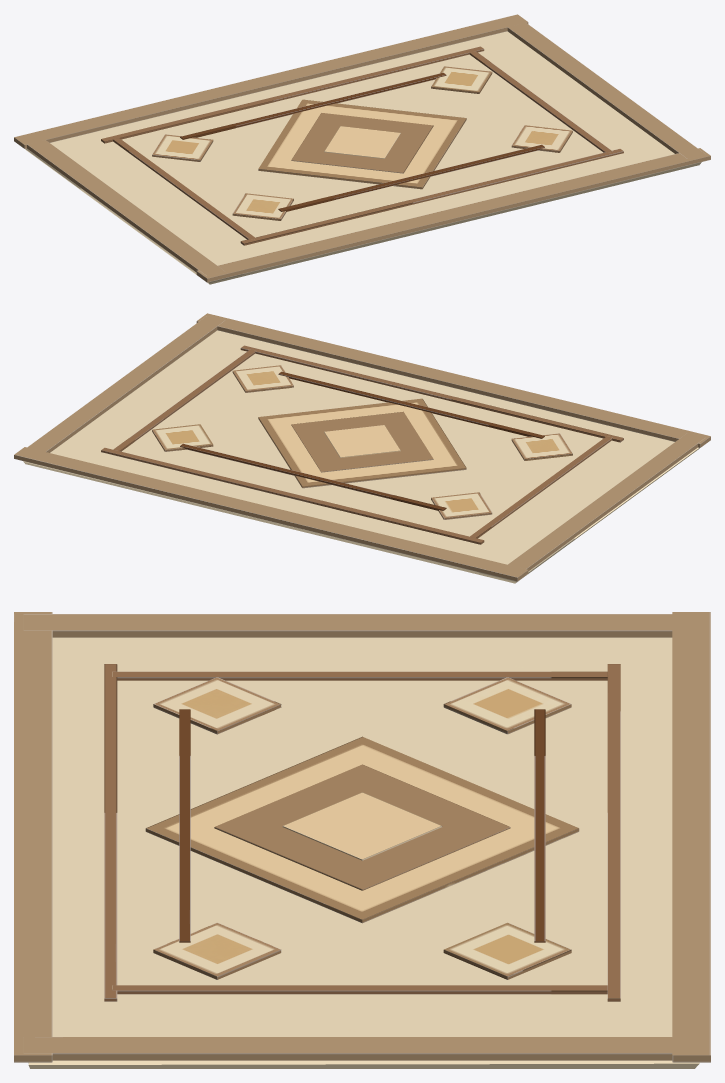
The model's file is Carpet2.fbx.
The picture shows the model from 3 angles, top to bottom: view 1: azimuth 30°, elevation 25°; view 2: azimuth 150°, elevation 25°; view 3: azimuth 270°, elevation 25°; orthographic projection. The views are drawn at different scales.
Visible parts, largest first — view 1: Home_Carpet_Base; view 2: Home_Carpet_Base; view 3: Home_Carpet_Base.
Part boxes in pixels (x1,y1,x2,y2): Home_Carpet_Base: [14, 14, 710, 284]; Home_Carpet_Base: [14, 313, 710, 583]; Home_Carpet_Base: [14, 612, 710, 1068].
Bounding box in the file's own units: 97.5 × 2.88 × 64.8.
